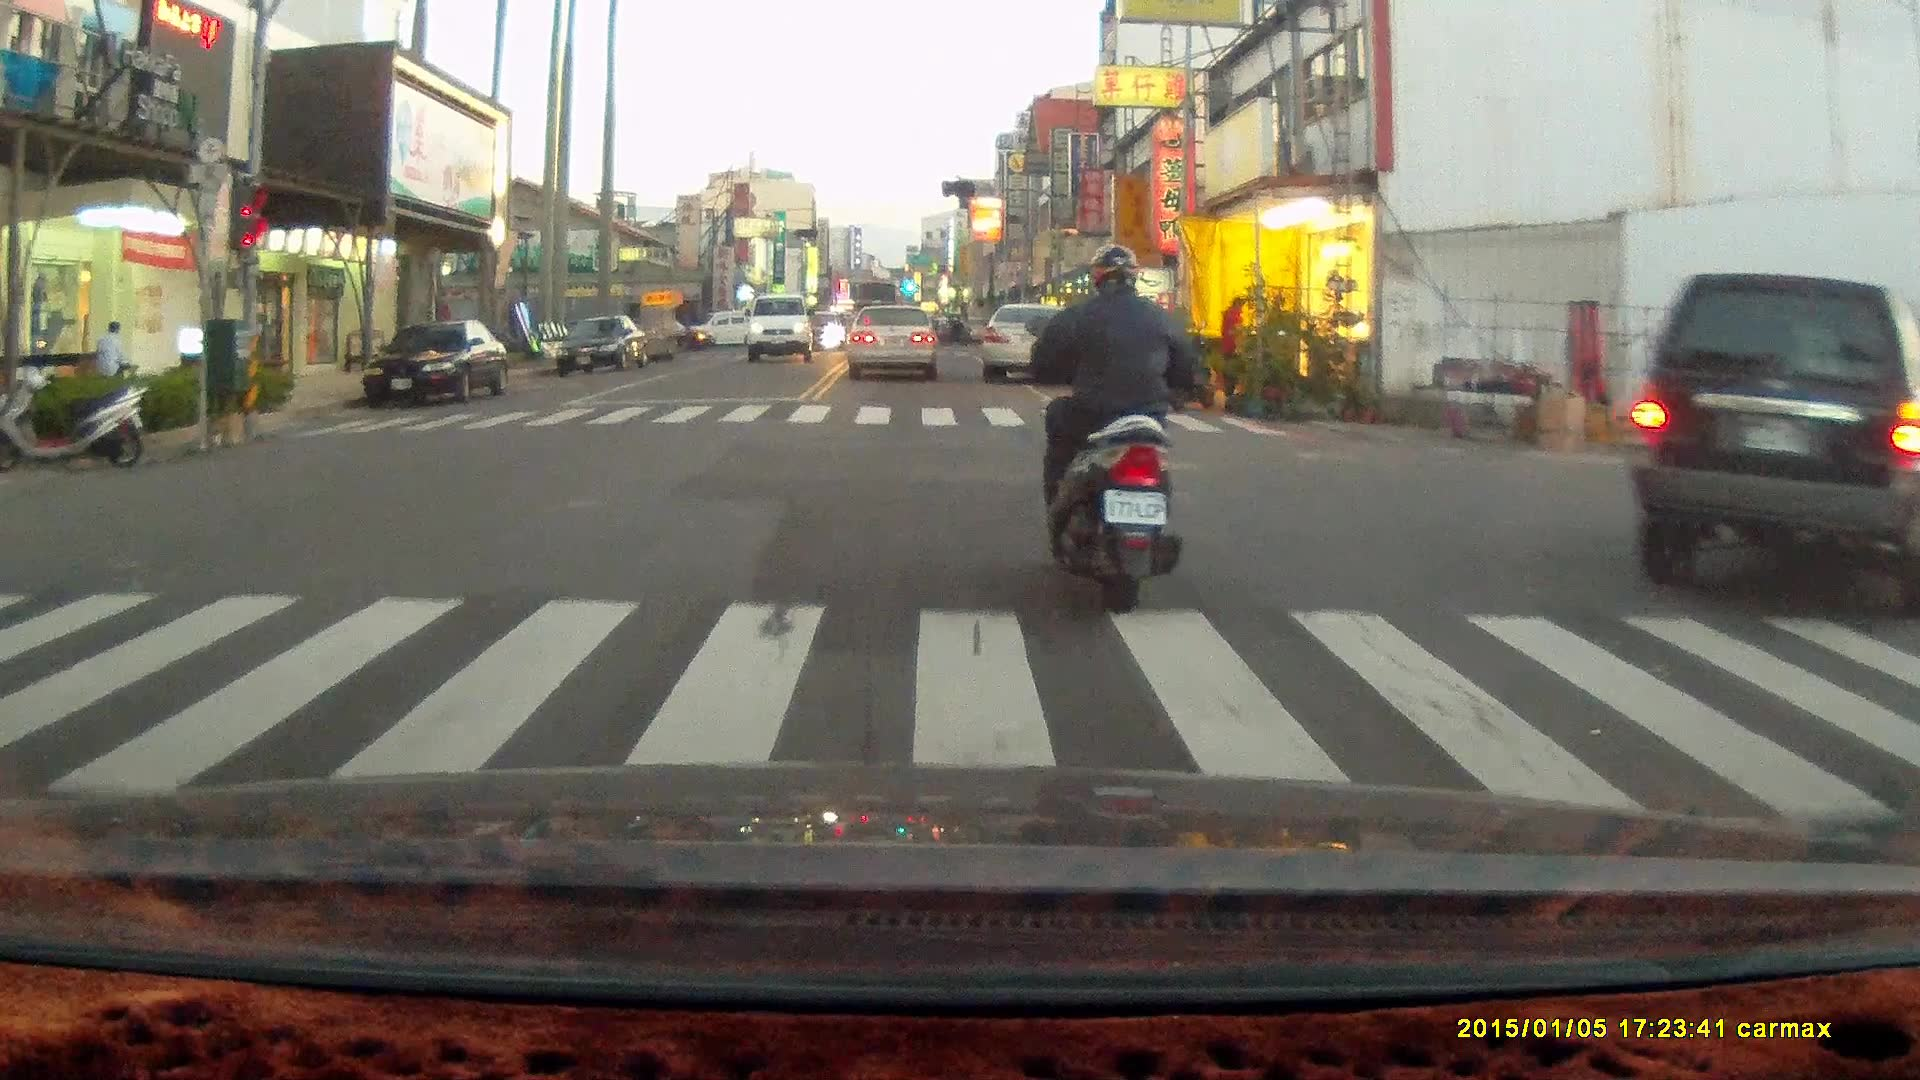pedestrian: (1215, 293, 1252, 406), (92, 318, 128, 389)
rider: (1026, 239, 1194, 612)
vehicle: (1619, 278, 1920, 611), (360, 317, 507, 413), (981, 301, 1090, 388), (847, 306, 938, 382), (557, 315, 649, 378), (747, 295, 815, 364)
